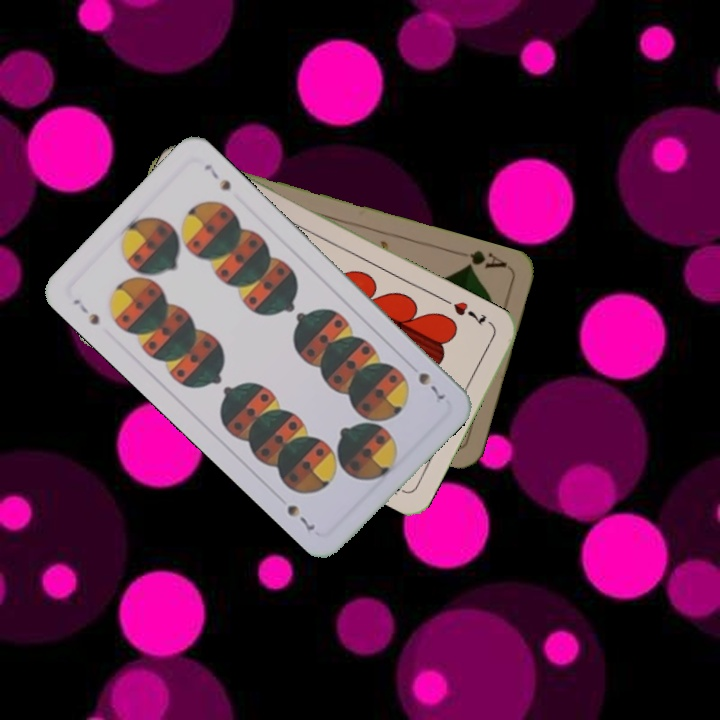GA: (460, 246, 510, 272)
H7: (449, 297, 489, 328)
S7: (68, 294, 102, 328), (414, 368, 447, 403)
